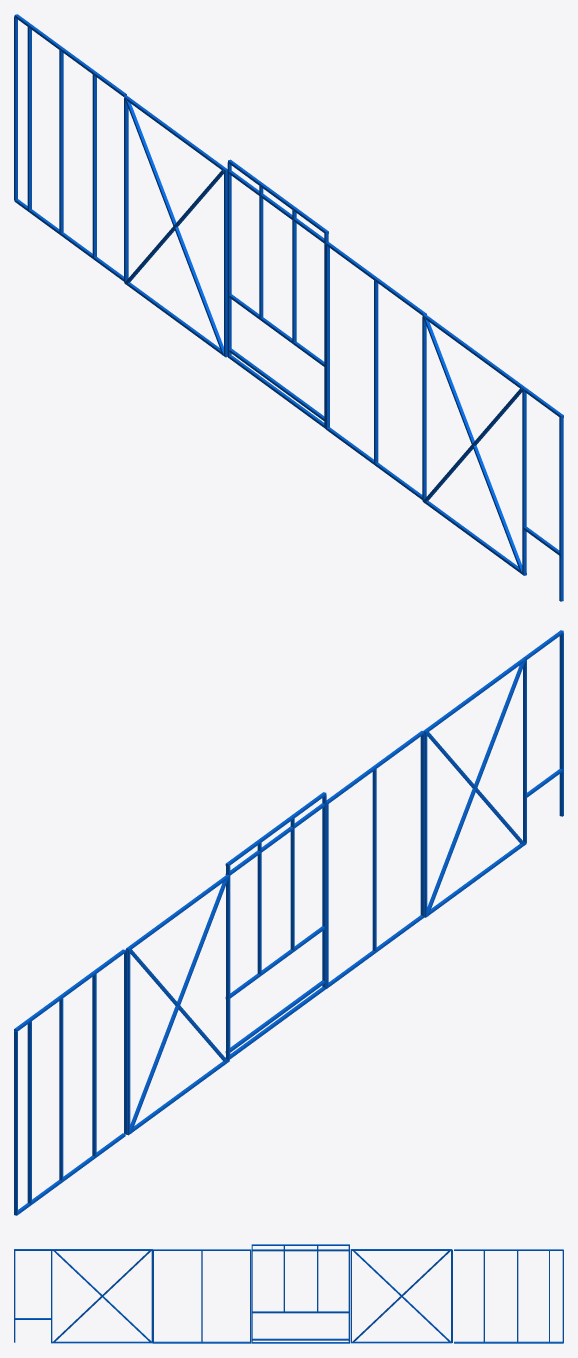
File: S_01_Wall_04_Metal.fbx
3 views of the same model, one above another, from view 1: azimuth 30°, elevation 25°; view 2: azimuth 150°, elevation 25°; view 3: azimuth 270°, elevation 25° (orthographic). The views are drawn at different scales.
Visible parts, largest first — view 1: S_01_Wall_04_Metal; view 2: S_01_Wall_04_Metal; view 3: S_01_Wall_04_Metal.
Part boxes in pixels (x1=…): S_01_Wall_04_Metal: x1=14, y1=14, x2=563, y2=601; S_01_Wall_04_Metal: x1=14, y1=630, x2=563, y2=1215; S_01_Wall_04_Metal: x1=14, y1=1244, x2=563, y2=1343.
Bounding box in the file's own units: 25.52 × 956 × 4818.
